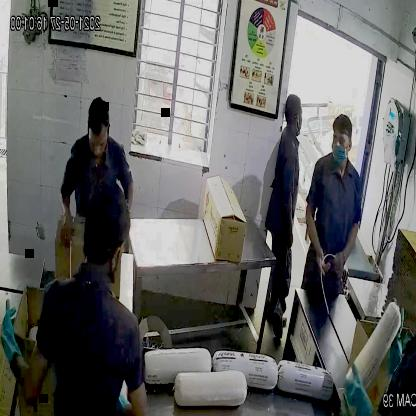no_goggles: (83, 130, 112, 151), (328, 130, 356, 150)
